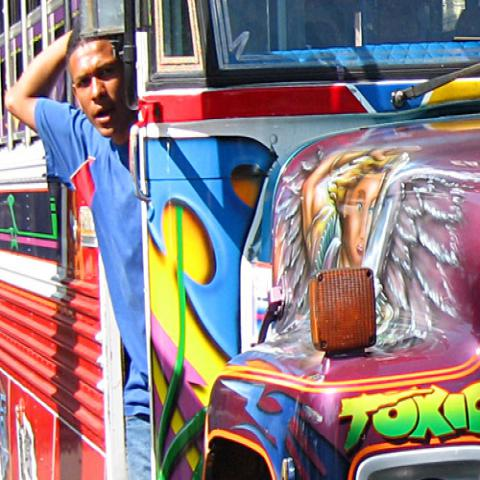bus: (0, 0, 480, 475)
